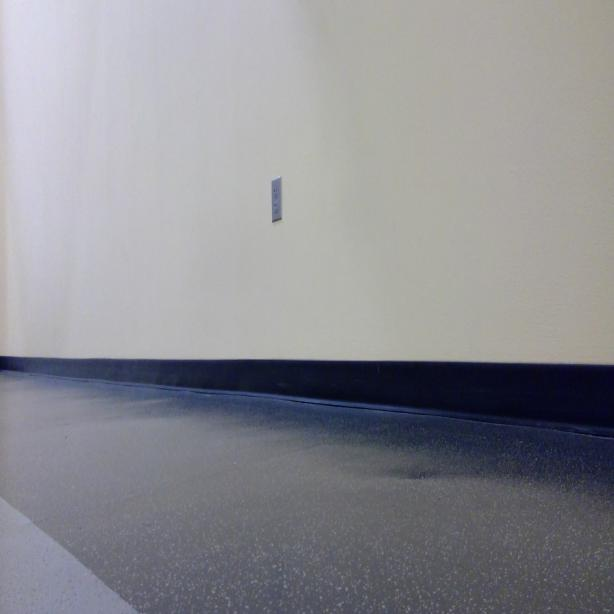typeb: (272, 184, 279, 199), (273, 201, 280, 214)
